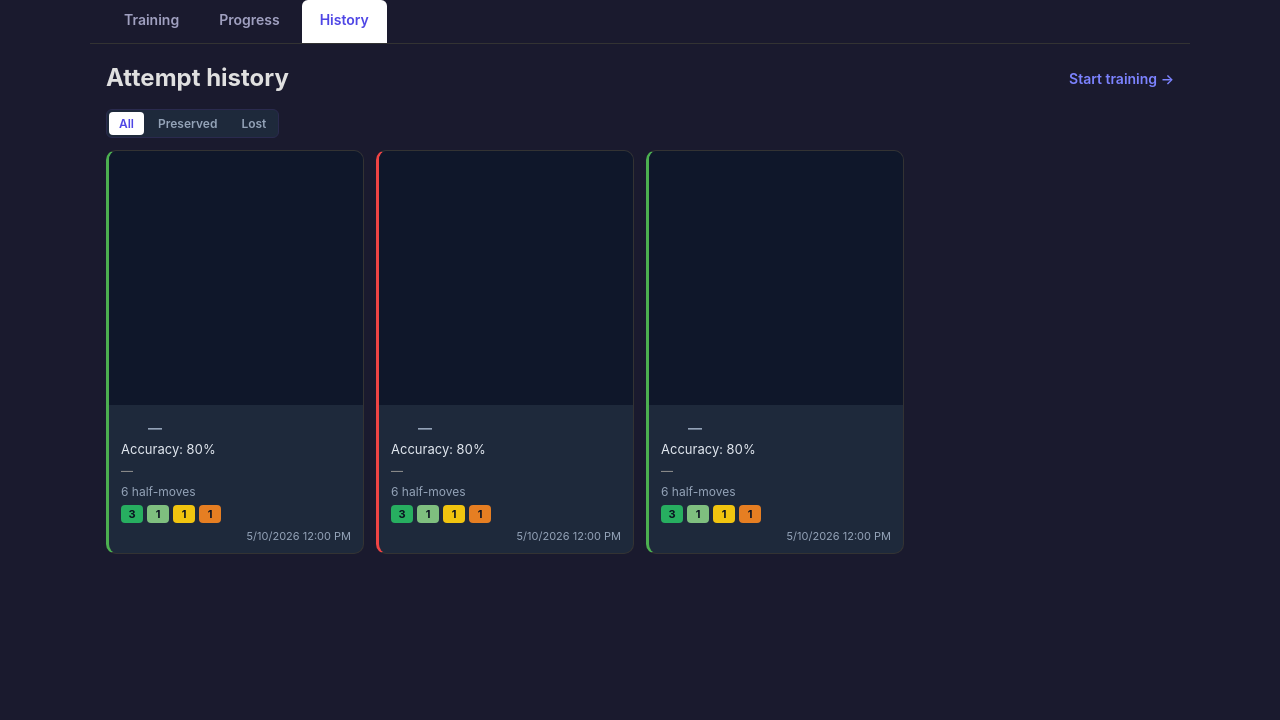
Test: PrecisionHistoryPage › фильтры списка переключают видимые строки (Удержано / Упущено)
Expected: the list item with test id "precision-attempts-row-a1" is shown, [106,150,364,554]
Expected: the list item with test id "precision-attempts-row-a2" is shown, [376,150,634,554]
Click the tab with test id "precision-attempts-filter-preserved" at (188, 123), box [148,112,227,135]
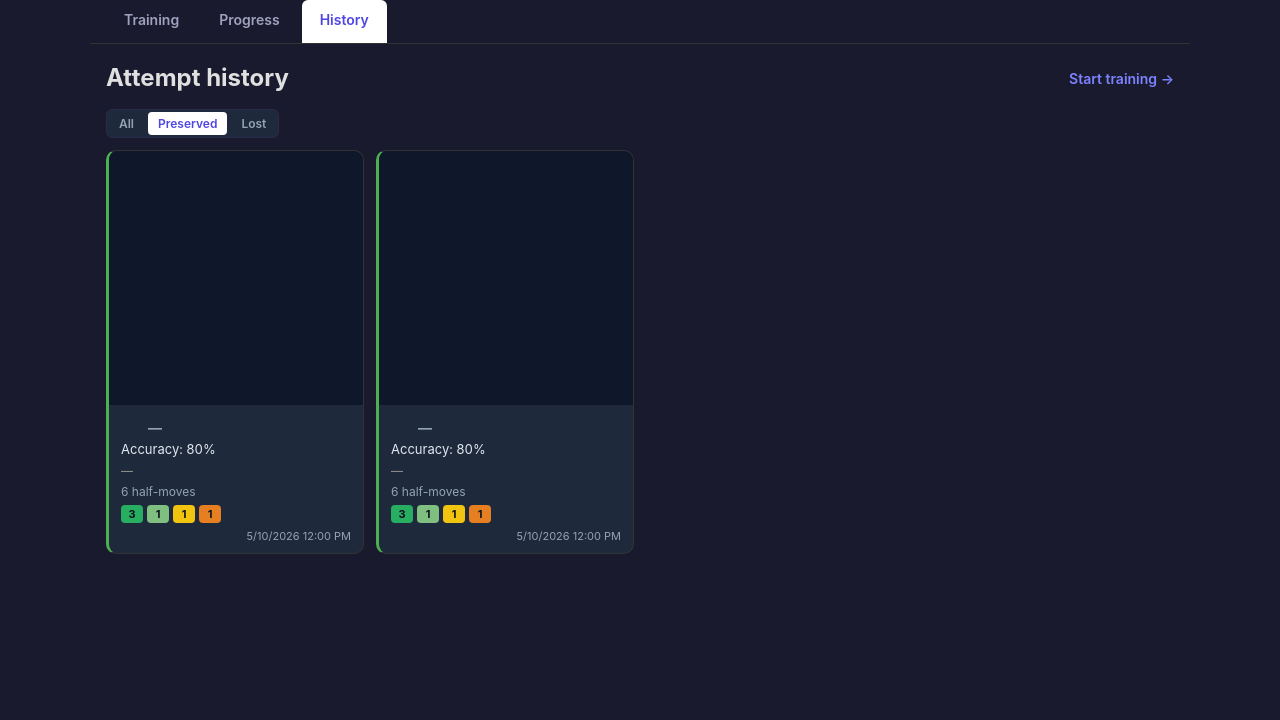
Expected: the list item with test id "precision-attempts-row-a1" is shown, [106,150,364,554]
Result: the list item with test id "precision-attempts-row-a2" is gone
Click the tab with test id "precision-attempts-filter-lost" at (254, 123), box [231,112,276,135]
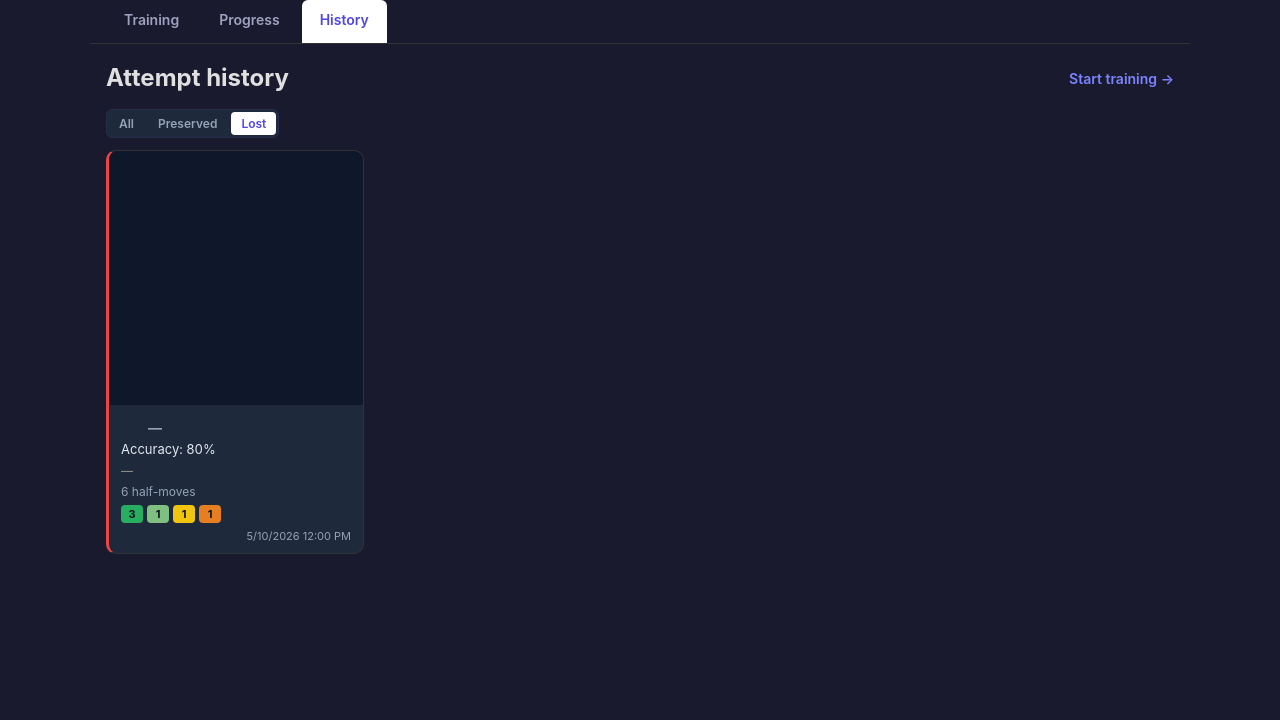
Result: the list item with test id "precision-attempts-row-a1" is gone
Result: the list item with test id "precision-attempts-row-a2" is shown at [106,150,364,554]
Result: the list item with test id "precision-attempts-row-a3" is gone
